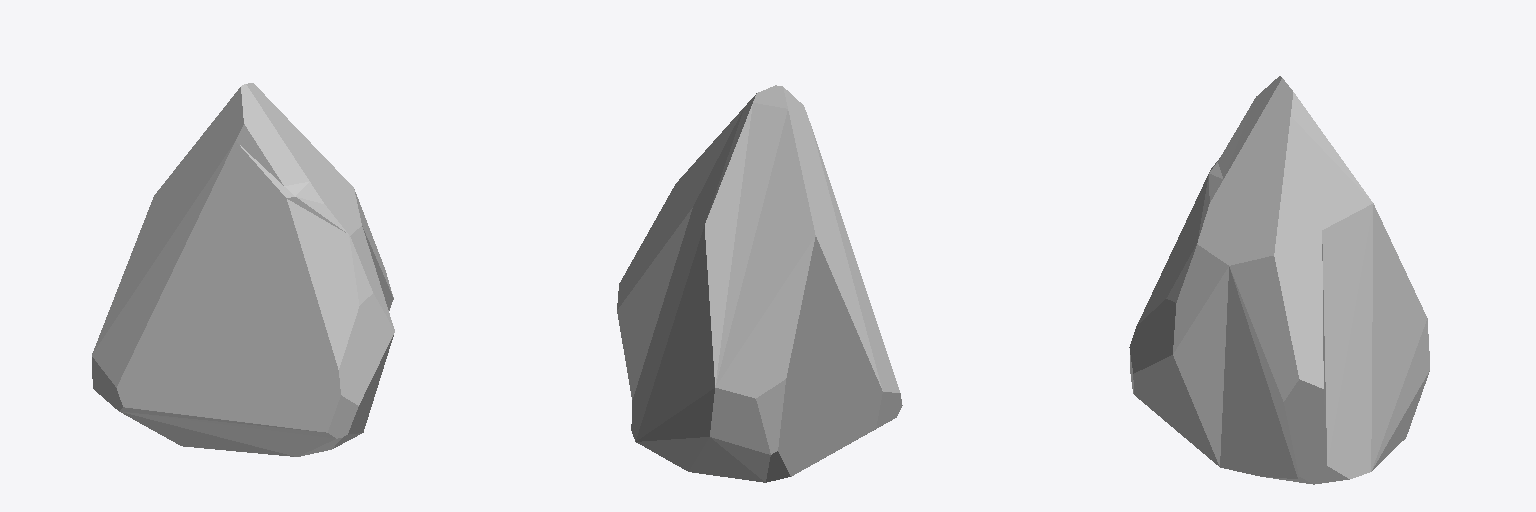
File: BigRock2.obj
3 renders of one model, left to right at view 1: azimuth 30°, elevation 25°; view 2: azimuth 150°, elevation 25°; view 3: azimuth 270°, elevation 25°, orthographic.
Parts seen in each view (by area): view 1: Cone_002; view 2: Cone_002; view 3: Cone_002.
Boxes of the visible parts, box(x1,y1,x2,y2) form: Cone_002: box(92, 83, 394, 456); Cone_002: box(617, 85, 902, 482); Cone_002: box(1129, 76, 1429, 484).
Bounding box in the file's own units: 120 × 143 × 112.